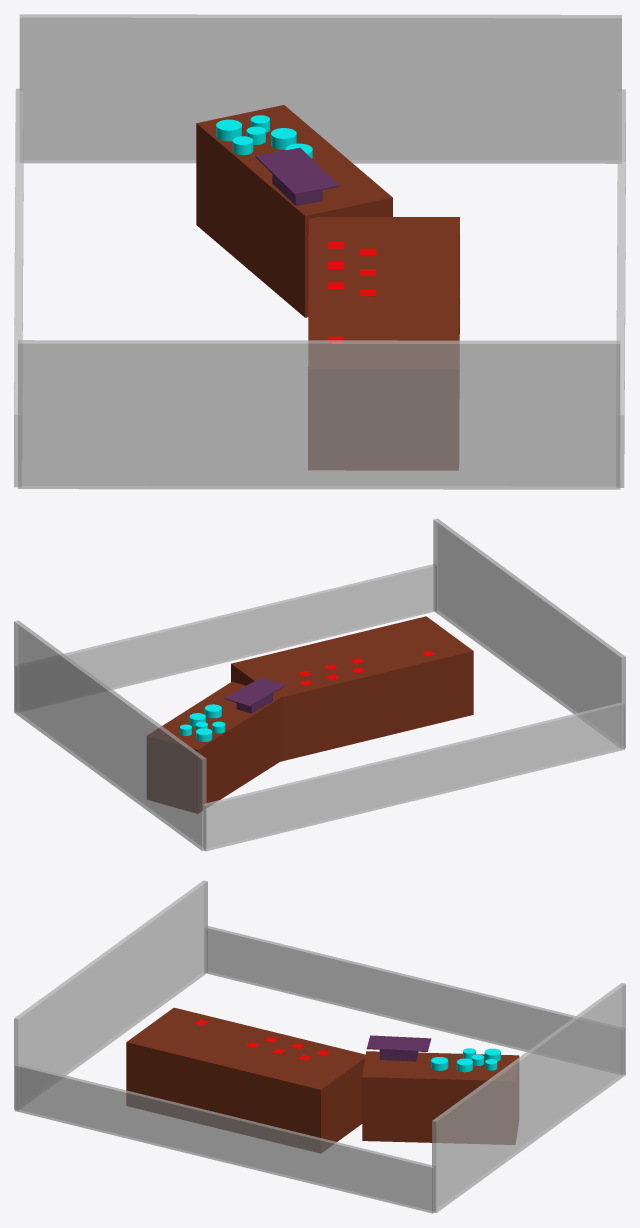
File: env1.dae
3 views of the same model, one above another, from view 1: azimuth 30°, elevation 25°; view 2: azimuth 150°, elevation 25°; view 3: azimuth 270°, elevation 25° (orthographic). The views are drawn at different scales.
Visible parts, largest first — view 1: base (×12); view 2: base (×13); view 3: base (×13).
Boxes of the visible parts, bbox=[...] form: base (×12): bbox=[14, 14, 625, 489]; base (×13): bbox=[14, 518, 625, 851]; base (×13): bbox=[14, 880, 625, 1213].
Bounding box in the file's own units: 5.7 × 6.08 × 1.2.
